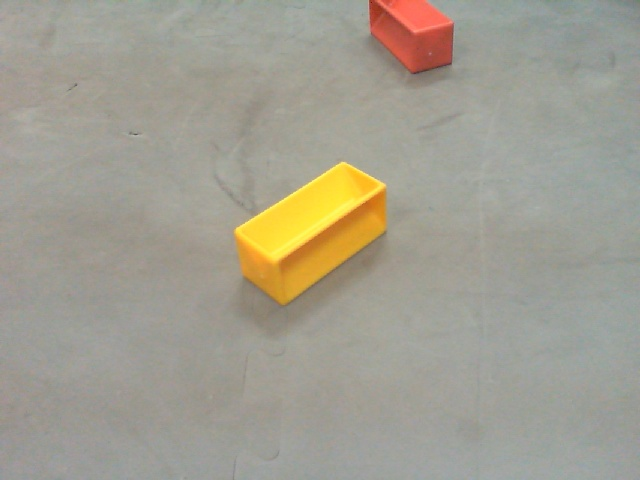RedSample: (365, 1, 457, 75)
YellowSample: (231, 160, 386, 307)
